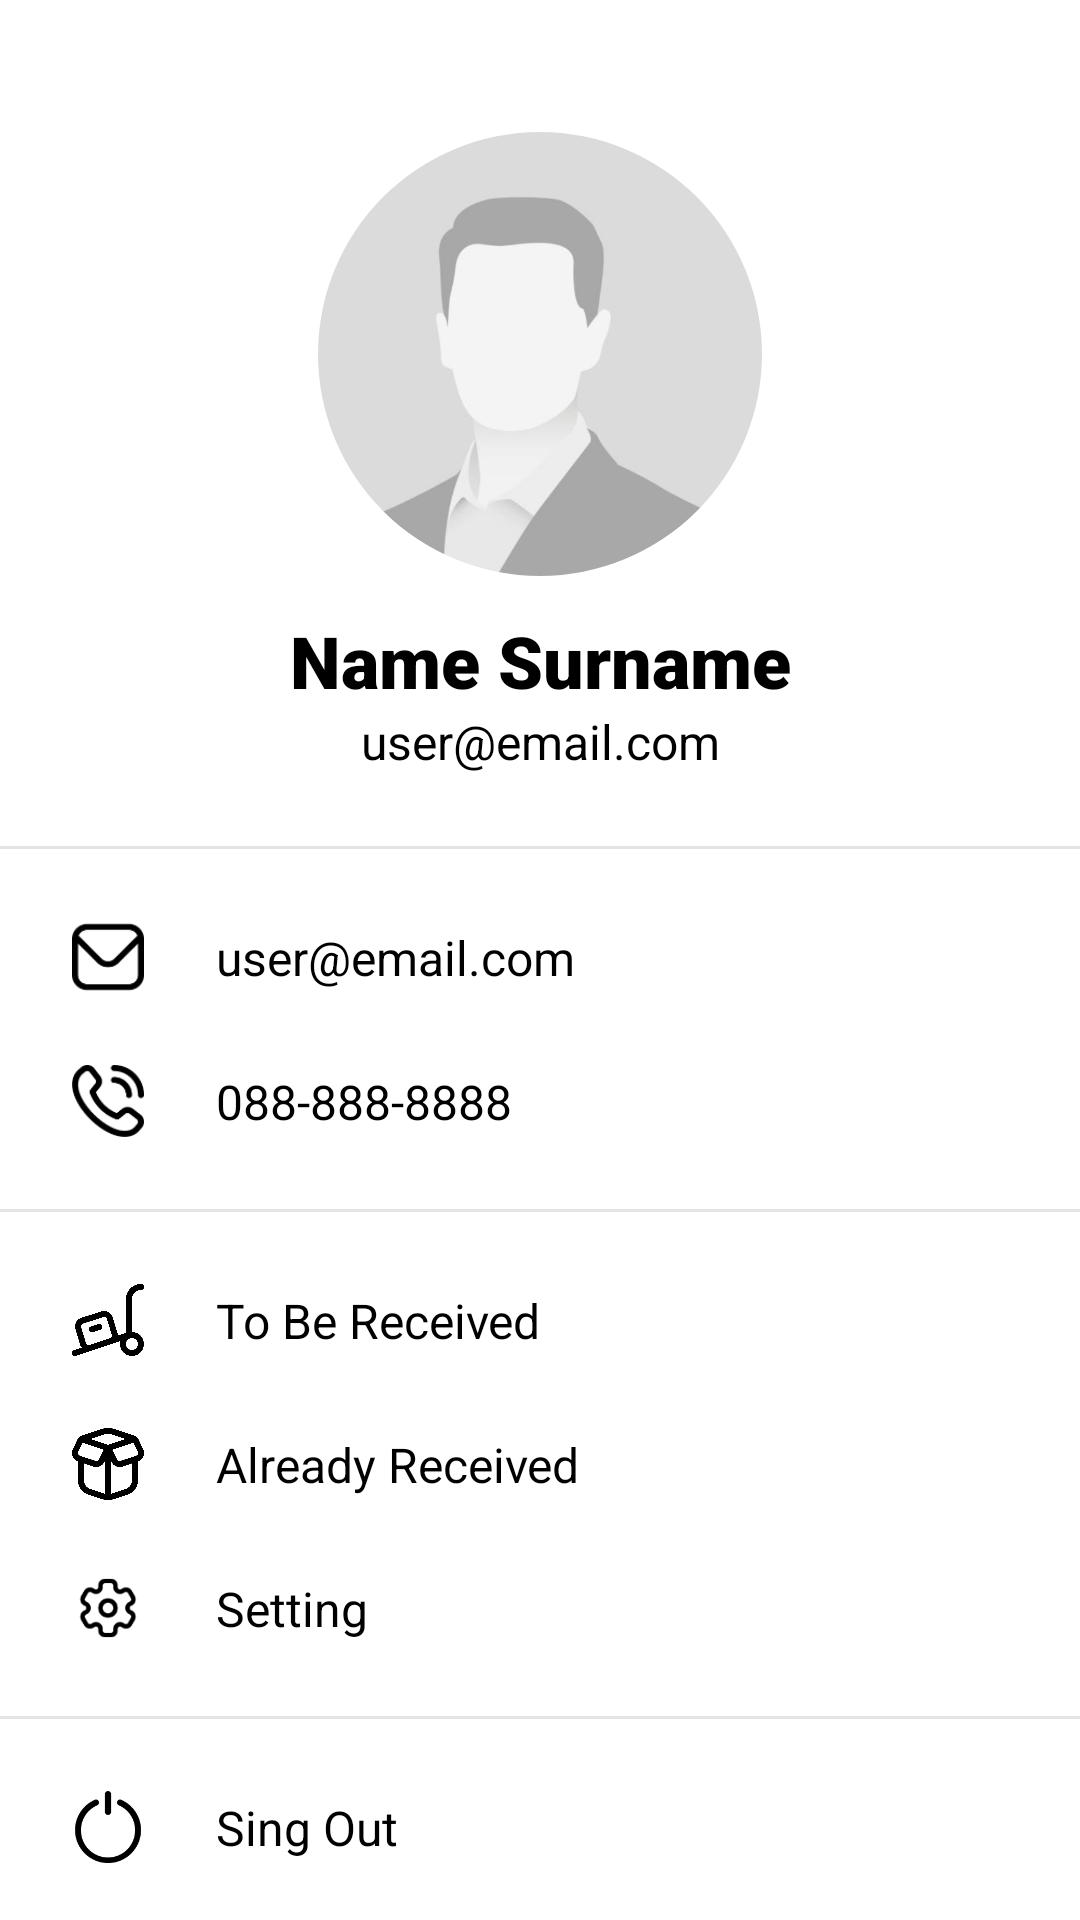

Icons on this 1080 x 1920 Android screen, each with its box as [x1,y1,x2,y2]:
box: [72,1428,144,1500]
envelope: [72,923,144,991]
phone: [72,1065,144,1137]
power: [75,1791,141,1863]
shipping: [72,1284,144,1356]
